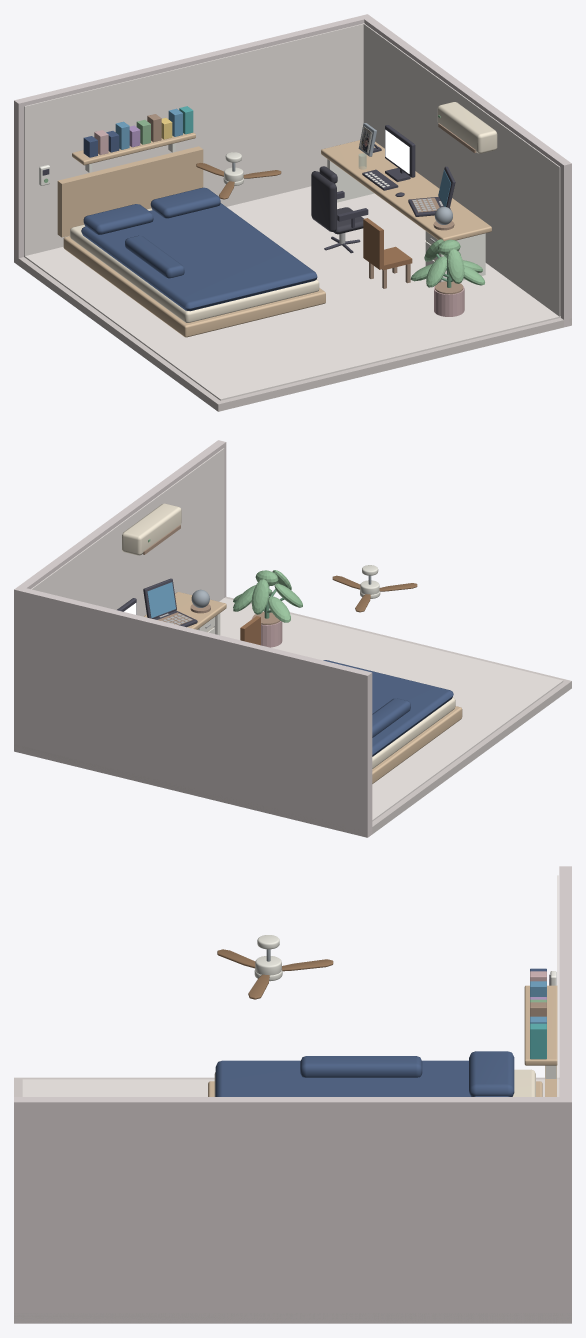
Rendered from portfolio_room.glb.
3 renders of one model, top to bottom at view 1: azimuth 30°, elevation 25°; view 2: azimuth 150°, elevation 25°; view 3: azimuth 270°, elevation 25°, orthographic. The views are drawn at different scales.
Visible parts, largest first — view 1: Floor surface, North wall inside, East wall inside, nav_about Navy duvet, Bed headboard NORTH wall, Room floor, North wall, nav_works Desk top EAST facing, East wall, nav_about Bed frame, Mattress, nav_lighting Air conditioner EAST wall (+11 smaller); view 2: North wall, Floor surface, East wall inside, Room floor, East wall, nav_about Navy duvet, nav_lighting Air conditioner EAST wall, nav_about Bed frame, Mattress, Long bolster, nav_works Desk top EAST facing, Notebook screen facing seat (+1 smaller); view 3: East wall, nav_about Navy duvet, North wall, Room floor, Floor surface, Long bolster, nav_about Navy pillow, Bookshelf above bed, Mattress, Project book 10.
Part boxes in pixels (left/top/right/bottom): Floor surface: left=24, top=186, right=560, bottom=400; North wall inside: left=24, top=23, right=364, bottom=257; East wall inside: left=363, top=23, right=560, bottom=317; nav_about Navy duvet: left=81, top=203, right=317, bottom=311; Bed headboard NORTH wall: left=57, top=146, right=203, bottom=237; Room floor: left=14, top=257, right=571, bottom=411; North wall: left=14, top=14, right=370, bottom=263; nav_works Desk top EAST facing: left=321, top=140, right=491, bottom=240; East wall: left=360, top=14, right=571, bottom=327; nav_about Bed frame: left=63, top=236, right=325, bottom=337; Mattress: left=70, top=208, right=319, bottom=322; nav_lighting Air conditioner EAST wall: left=437, top=102, right=497, bottom=153; North wall: left=14, top=586, right=372, bottom=837; Floor surface: left=219, top=598, right=563, bottom=821; East wall inside: left=31, top=448, right=224, bottom=616; Room floor: left=14, top=596, right=571, bottom=837; East wall: left=14, top=440, right=226, bottom=753; nav_about Navy duvet: left=323, top=660, right=453, bottom=756; nav_lighting Air conditioner EAST wall: left=122, top=503, right=181, bottom=555; nav_about Bed frame: left=372, top=706, right=462, bottom=783; Mattress: left=372, top=697, right=455, bottom=768; Long bolster: left=372, top=698, right=410, bottom=737; nav_works Desk top EAST facing: left=144, top=592, right=226, bottom=629; Notebook screen facing seat: left=147, top=582, right=175, bottom=617; East wall: left=14, top=1097, right=571, bottom=1323; nav_about Navy duvet: left=215, top=1060, right=470, bottom=1096; North wall: left=559, top=866, right=571, bottom=1323; Room floor: left=14, top=1077, right=571, bottom=1323; Floor surface: left=22, top=1079, right=559, bottom=1096; Long bolster: left=300, top=1056, right=422, bottom=1077; nav_about Navy pillow: left=469, top=1051, right=514, bottom=1096; Bookshelf above bed: left=524, top=985, right=557, bottom=1065; Mattress: left=214, top=1069, right=535, bottom=1096; Project book 10: left=530, top=1023, right=546, bottom=1059.
Bounding box in the file's own units: 8 × 3.5 × 8.
26 materials, 1 textured.
